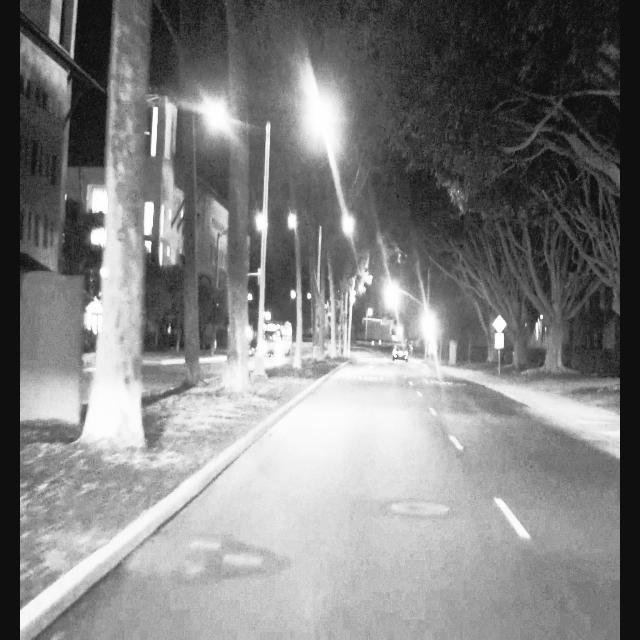Tree: (94, 0, 150, 454), (223, 0, 255, 392), (177, 5, 207, 394)
